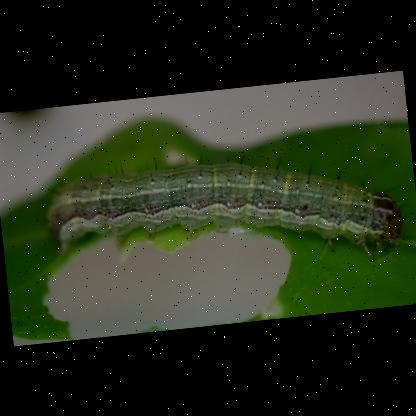Fall Armyworm Larvae: (36, 130, 416, 297)
